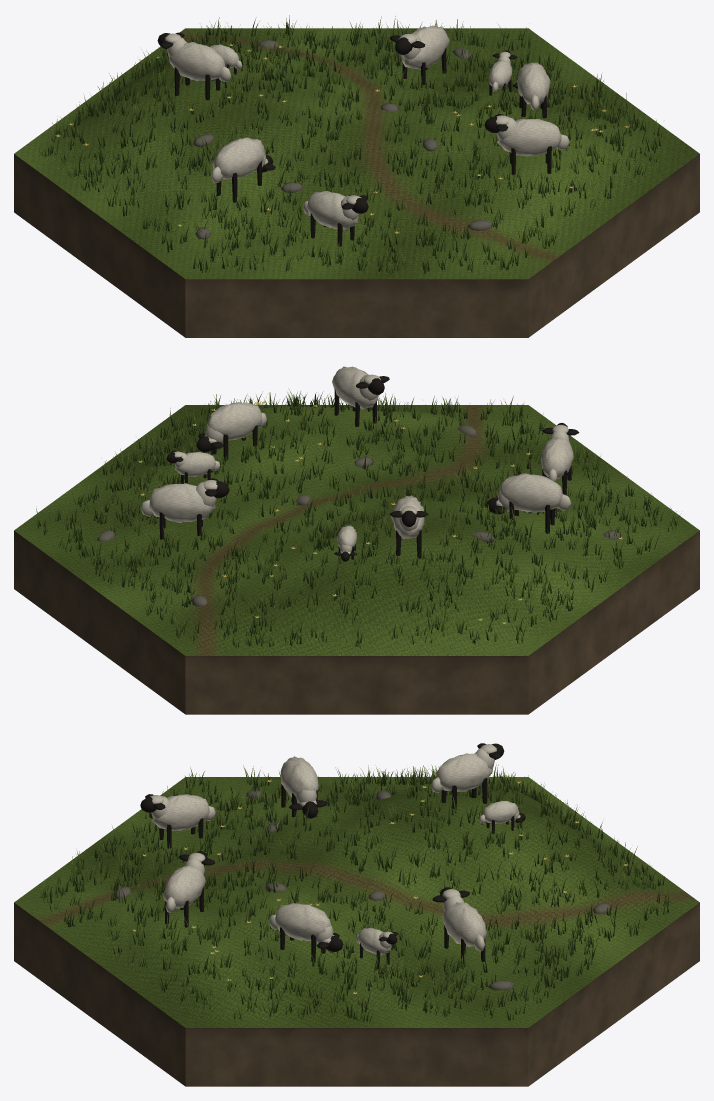
File: Wool.glb
3 views of the same model, one above another, from view 1: azimuth 30°, elevation 25°; view 2: azimuth 150°, elevation 25°; view 3: azimuth 270°, elevation 25° (orthographic).
Visible parts, largest first — view 1: Wool_Ground_Web, Wool_Grass_Tufts, Wool_Flock_and_Stones; view 2: Wool_Ground_Web, Wool_Grass_Tufts, Wool_Flock_and_Stones; view 3: Wool_Ground_Web, Wool_Grass_Tufts, Wool_Flock_and_Stones.
Part boxes in pixels (box(x1,y1,x2,y2)): Wool_Ground_Web: box(14, 28, 699, 337); Wool_Grass_Tufts: box(37, 15, 663, 274); Wool_Flock_and_Stones: box(157, 25, 569, 246); Wool_Ground_Web: box(14, 405, 699, 714); Wool_Grass_Tufts: box(35, 388, 679, 648); Wool_Flock_and_Stones: box(97, 366, 621, 606); Wool_Ground_Web: box(14, 777, 699, 1086); Wool_Grass_Tufts: box(37, 764, 671, 1022); Wool_Flock_and_Stones: box(114, 743, 611, 990).
Bounding box in the file's own units: 1.65 × 0.4856 × 1.91.
7 materials, 7 textured.
